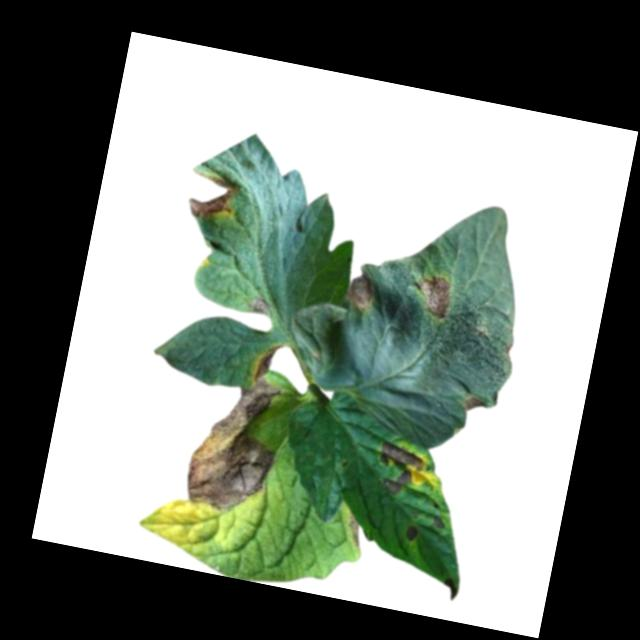Early_blight: (181, 367, 282, 516), (370, 439, 428, 499), (183, 166, 244, 223), (412, 272, 457, 321), (343, 270, 381, 312), (252, 341, 281, 384), (344, 512, 365, 550), (461, 393, 489, 413), (441, 575, 461, 602), (403, 522, 422, 542), (250, 296, 271, 314), (433, 513, 448, 528)
